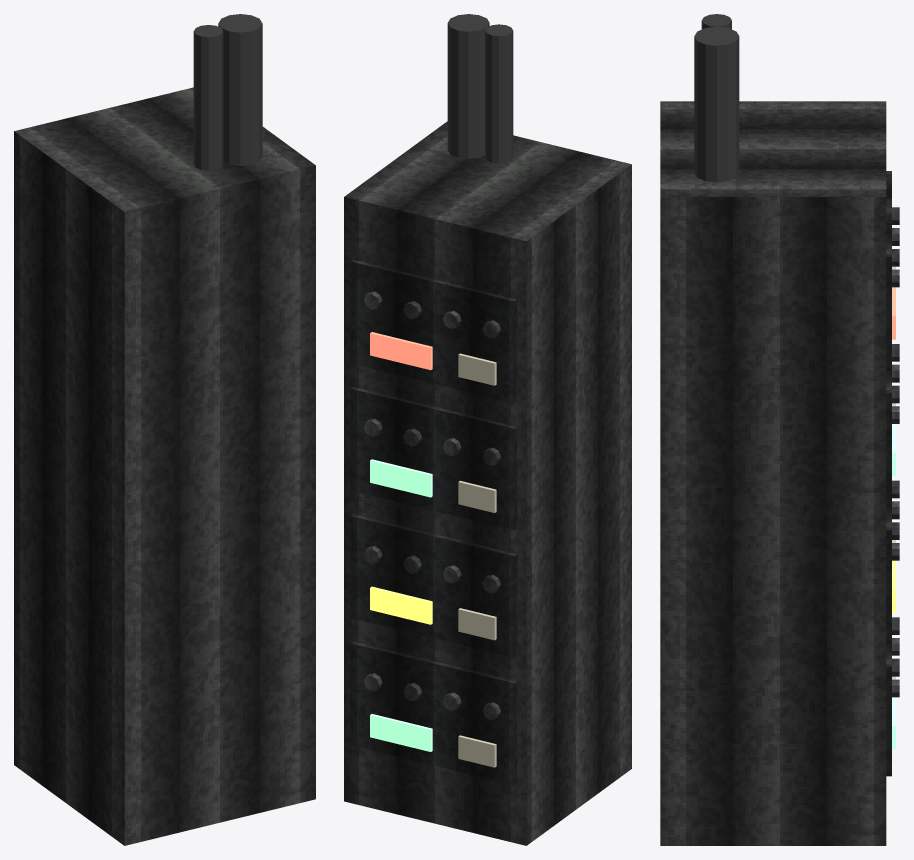
The model's file is radio_rack.glb.
3 views of the same model, side by side, from view 1: azimuth 30°, elevation 25°; view 2: azimuth 150°, elevation 25°; view 3: azimuth 270°, elevation 25° (orthographic). The views are drawn at different scales.
Visible parts, largest first — view 1: radio_rack; view 2: radio_rack; view 3: radio_rack.
Boxes of the visible parts, x1,y1,x2,y2 form: radio_rack: [14, 14, 315, 845]; radio_rack: [344, 14, 631, 845]; radio_rack: [660, 14, 899, 845].
Bounding box in the file's own units: 0.6 × 2.3 × 0.635.
8 materials, 3 textured.
